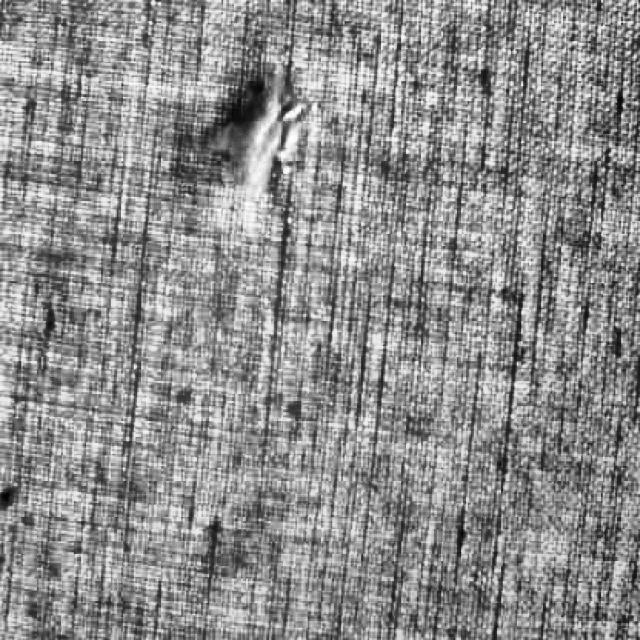objects: (176, 54, 334, 204)
